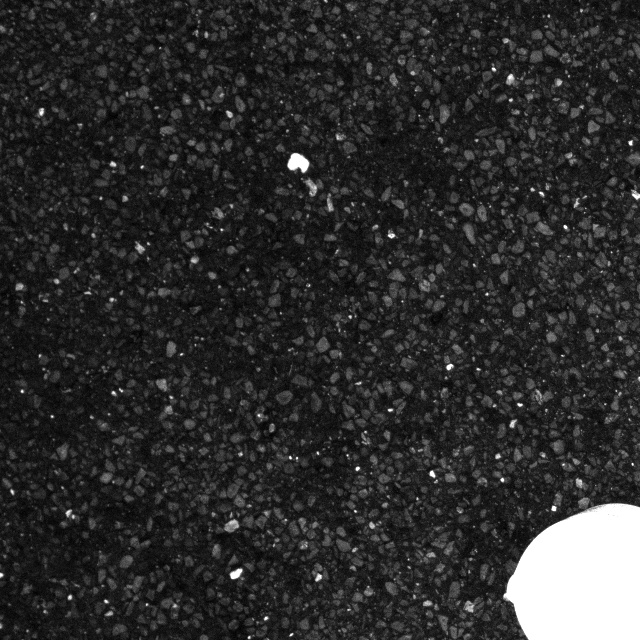can: (502, 493, 640, 640)
